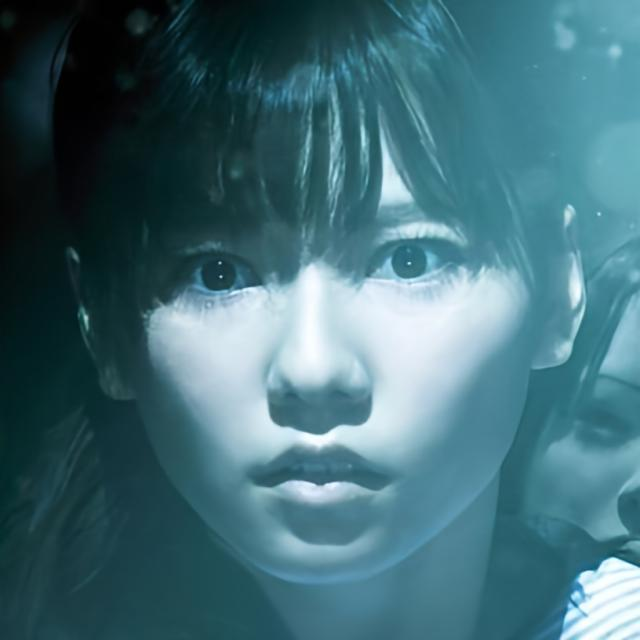Fear: (112, 55, 531, 586)
